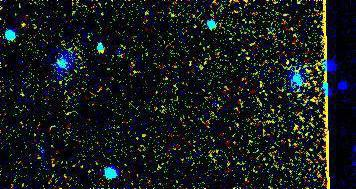star: (86, 35, 116, 65)
